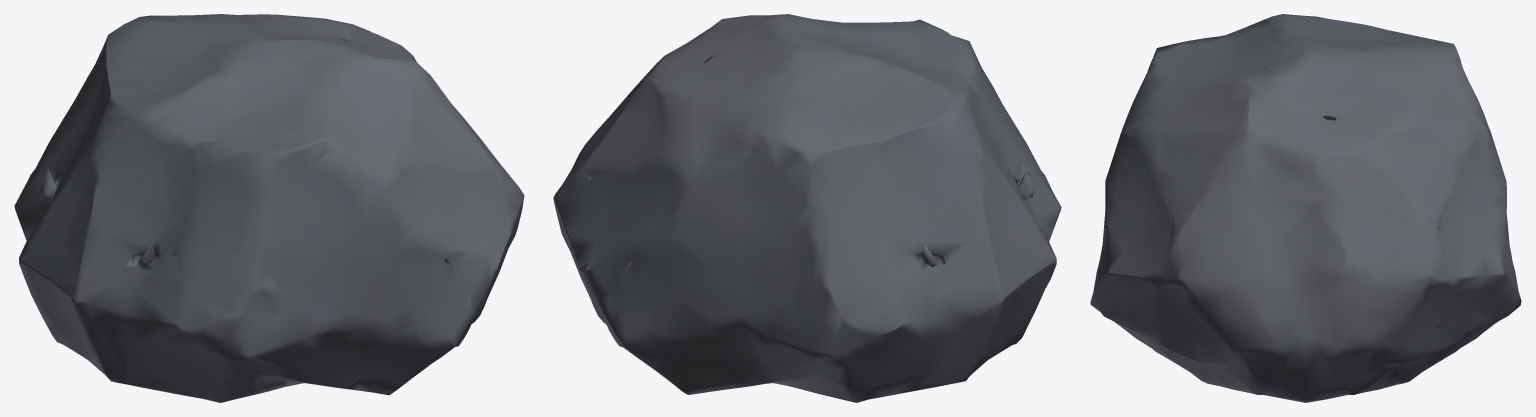
File: rock.glb
The picture shows the model from 3 angles, left to right: view 1: azimuth 30°, elevation 25°; view 2: azimuth 150°, elevation 25°; view 3: azimuth 270°, elevation 25°; orthographic projection. The views are drawn at different scales.
Parts seen in each view (by area): view 1: tripo_node_6139ada6-de7f-479a-b77f-ca5c47d261de; view 2: tripo_node_6139ada6-de7f-479a-b77f-ca5c47d261de; view 3: tripo_node_6139ada6-de7f-479a-b77f-ca5c47d261de.
Part boxes in pixels (x1,y1,x2,y2): tripo_node_6139ada6-de7f-479a-b77f-ca5c47d261de: [14, 14, 524, 402]; tripo_node_6139ada6-de7f-479a-b77f-ca5c47d261de: [553, 14, 1061, 402]; tripo_node_6139ada6-de7f-479a-b77f-ca5c47d261de: [1090, 14, 1521, 402].
Size of the model in its own units: 0.9792 by 0.6667 by 0.8867.
Materials: 1 (1 with a texture image).
